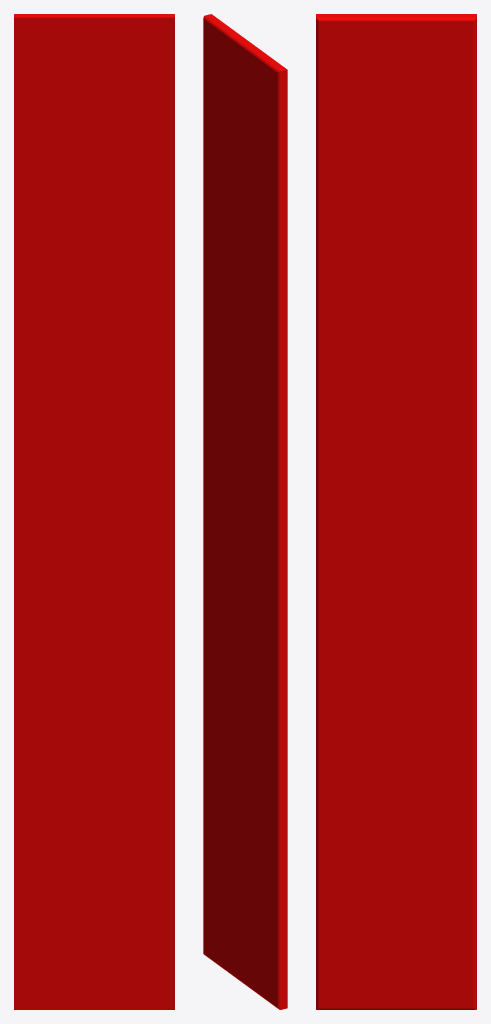
The model's file is singleDrawerSide.glb.
3 views of the same model, side by side, from view 1: azimuth 90°, elevation 25°; view 2: azimuth 210°, elevation 25°; view 3: azimuth 270°, elevation 25° (orthographic). The views are drawn at different scales.
Parts seen in each view (by area): view 1: Body_1; view 2: Body_1; view 3: Body_1.
Part boxes in pixels (x1,y1,x2,y2): Body_1: (14, 14, 174, 1009); Body_1: (203, 14, 287, 1009); Body_1: (316, 14, 476, 1009).
Bounding box in the file's own units: 0.005 × 0.4838 × 0.071.
